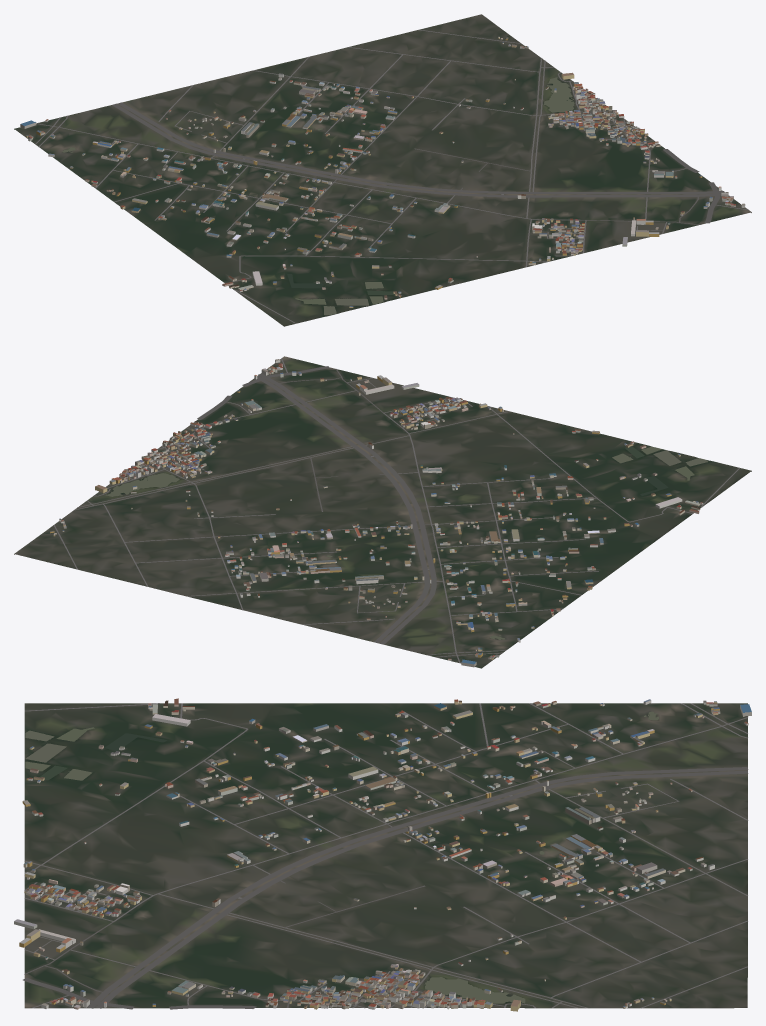
3 renders of one model, top to bottom at view 1: azimuth 30°, elevation 25°; view 2: azimuth 150°, elevation 25°; view 3: azimuth 270°, elevation 25°, orthographic. The views are drawn at different scales.
Visible parts, largest first — view 1: ground, buildings, roads, water; view 2: ground, buildings, roads, water; view 3: ground, buildings, roads, water.
Boxes of the visible parts, x1=… form: ground: x1=14, y1=14, x2=751, y2=326; buildings: x1=20, y1=37, x2=745, y2=307; roads: x1=35, y1=29, x2=748, y2=323; water: x1=62, y1=77, x2=574, y2=315; ground: x1=14, y1=356, x2=751, y2=668; buildings: x1=50, y1=359, x2=703, y2=667; roads: x1=53, y1=358, x2=739, y2=663; water: x1=105, y1=446, x2=707, y2=639; ground: x1=24, y1=703, x2=747, y2=1008; buildings: x1=14, y1=698, x2=751, y2=1011; roads: x1=23, y1=703, x2=748, y2=1009; water: x1=25, y1=711, x2=658, y2=1003.
Bounding box in the file's own units: 1428 × 17.55 × 1431.
